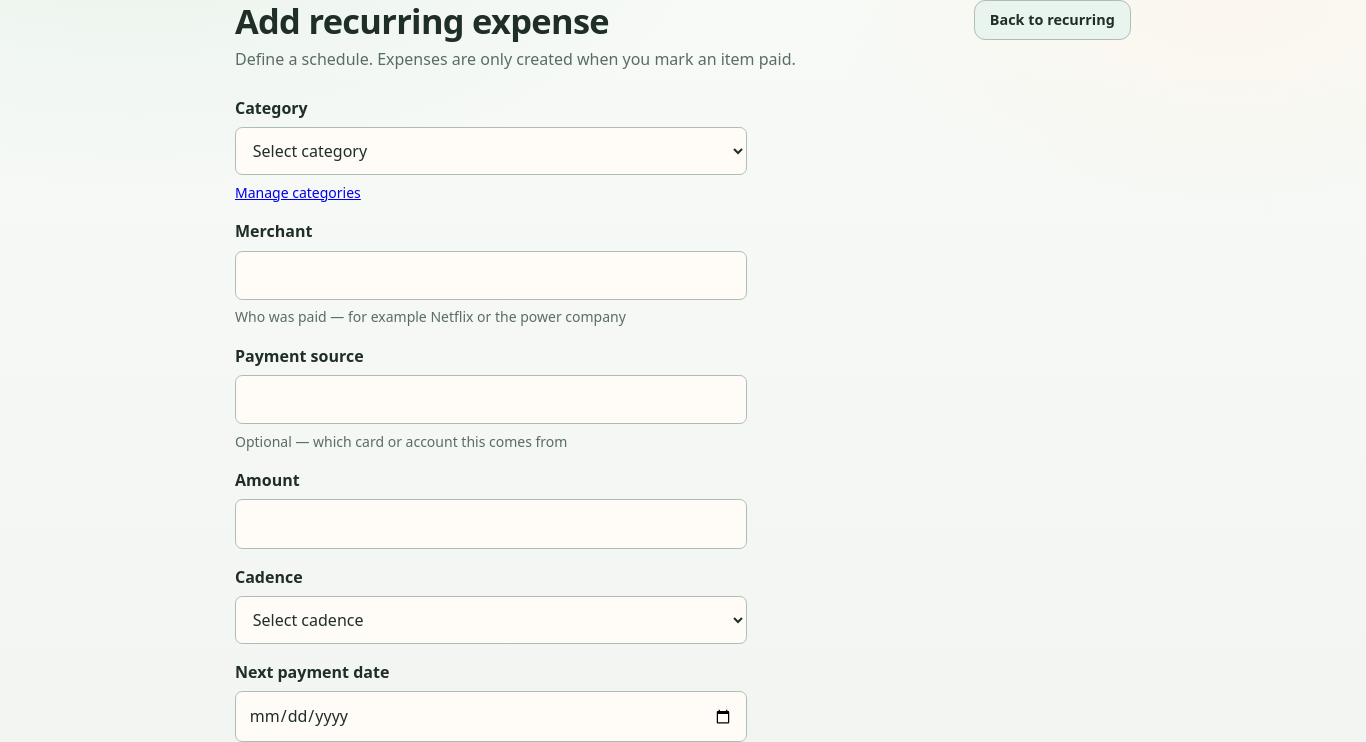
RecurringFormPage › shows semimonthly payment day fields with defaults when that cadence is selected
Expected: the field labelled "Payment source" is shown, [235, 375, 747, 424]
Select "Semimonthly (twice a month)" in the dropdown labelled "Cadence": (491, 620) [235, 596, 747, 644]
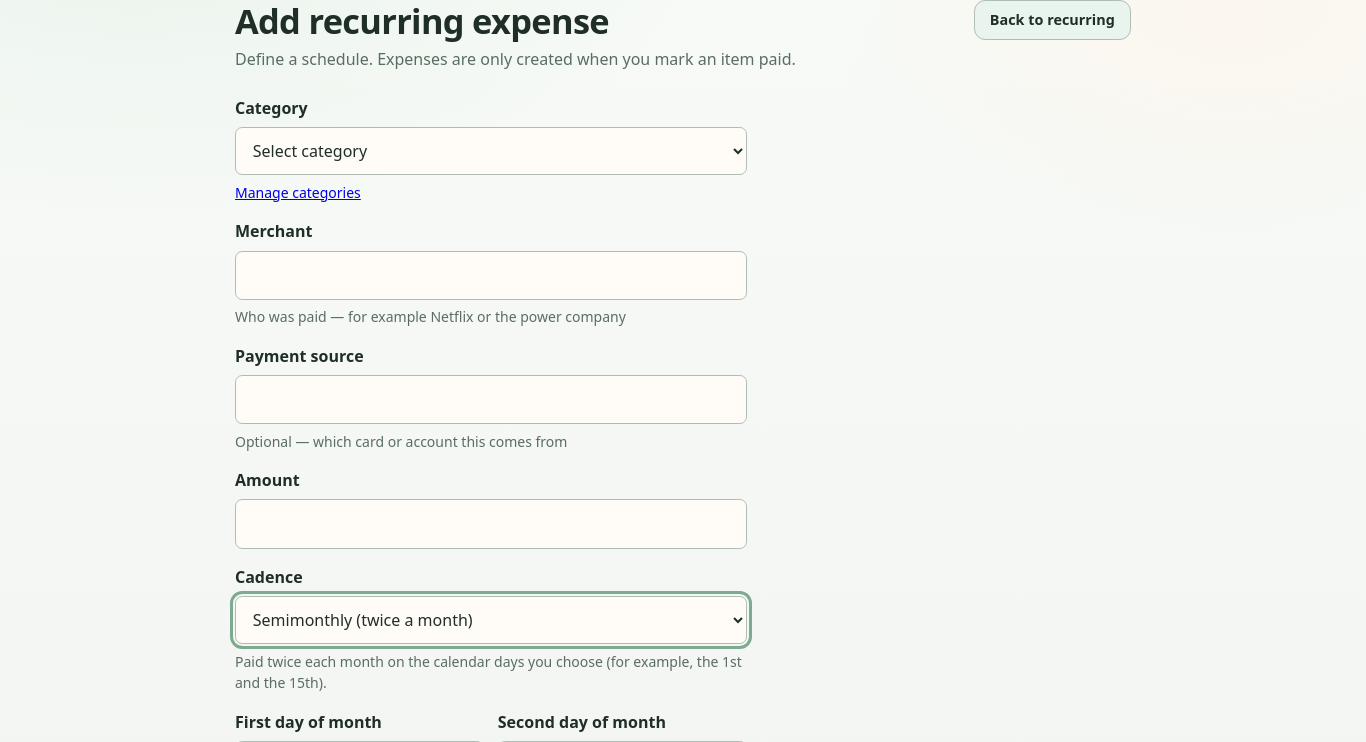
Now the text "twice each month" is shown, box [235, 652, 742, 692]
